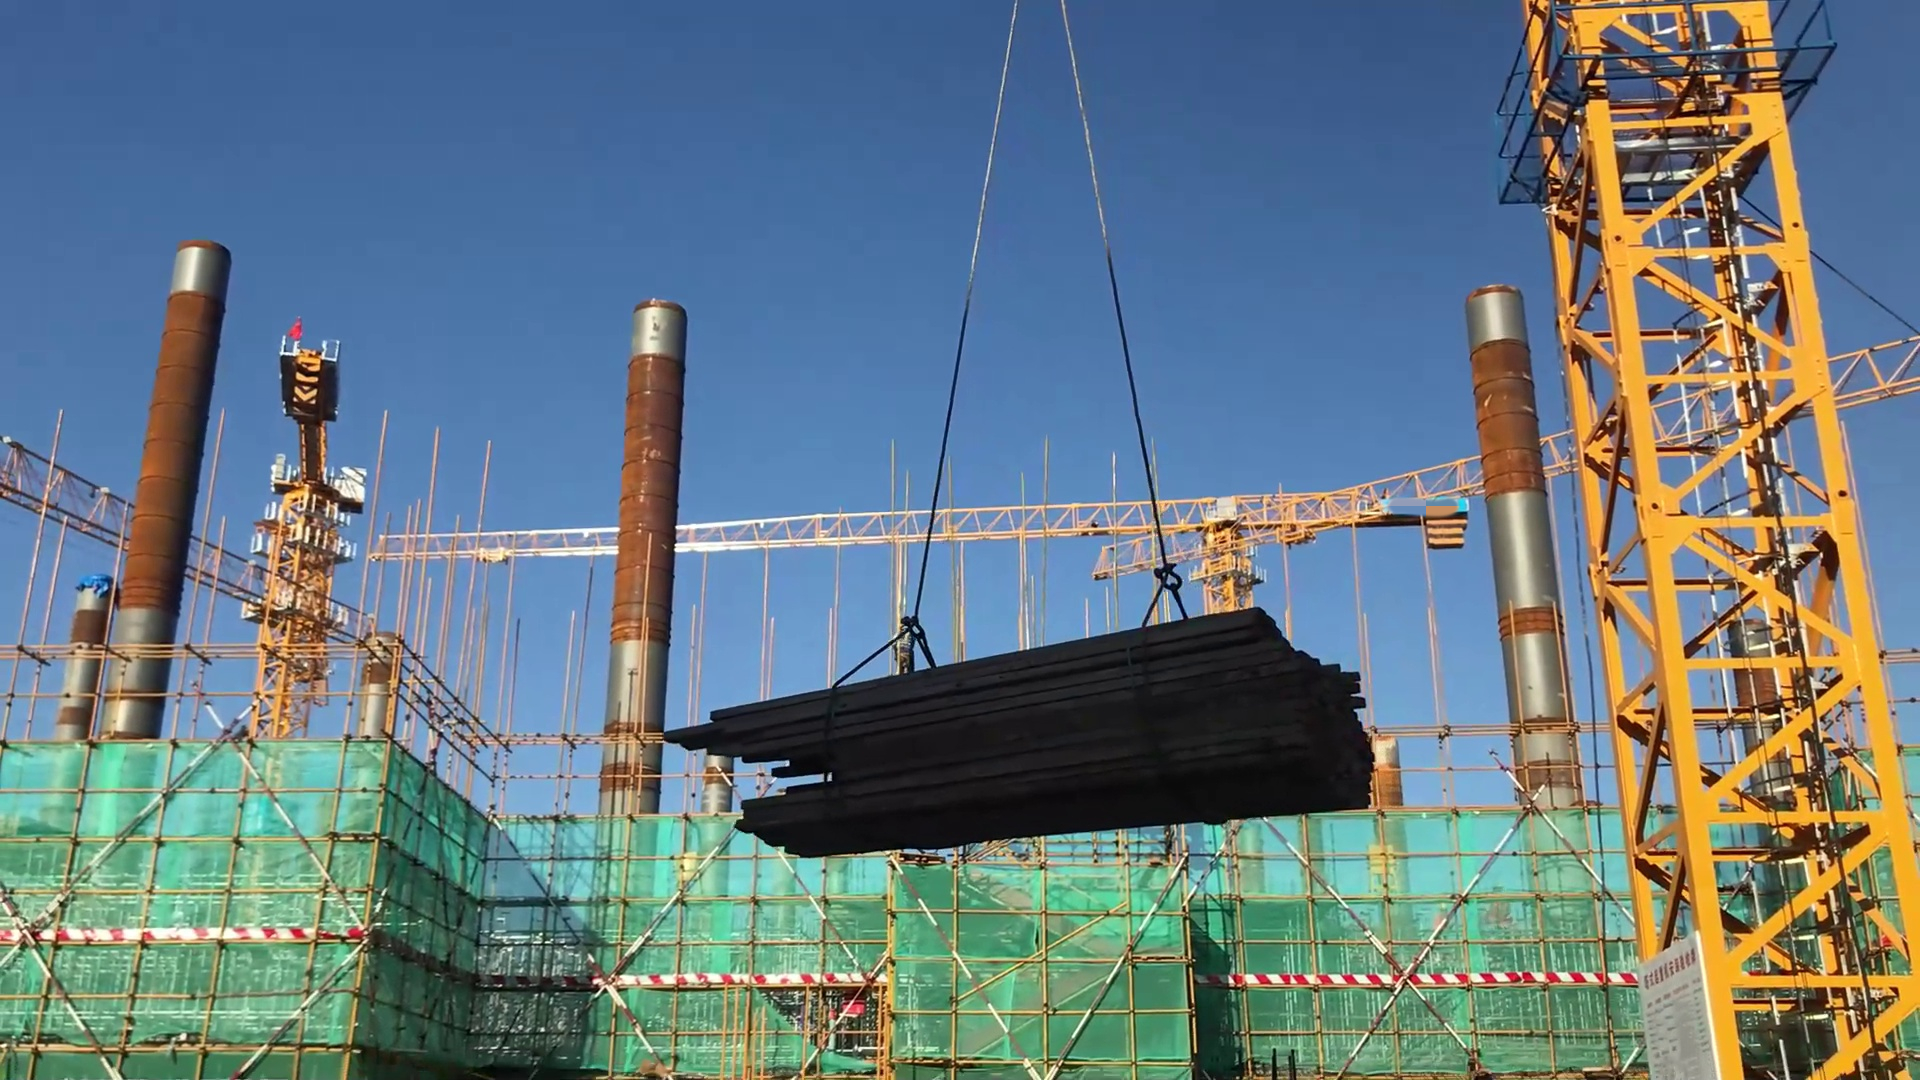person: (889, 616, 915, 675)
wood: (673, 608, 1373, 855)
